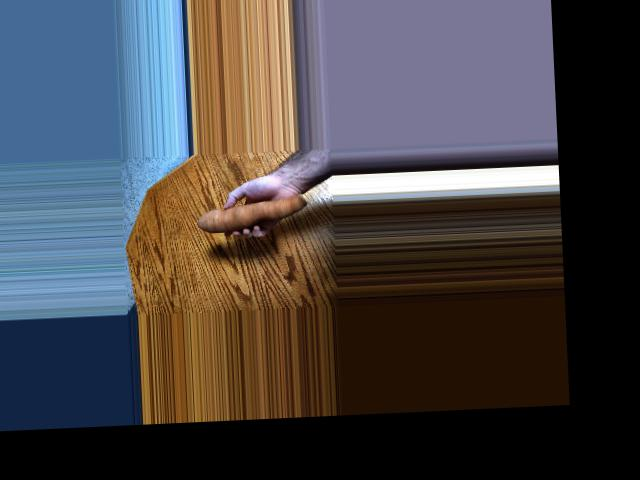sweet_potato: (196, 193, 302, 241)
